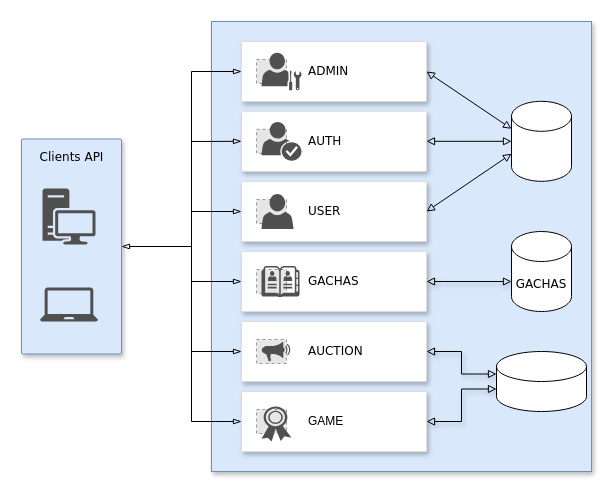
This 615x496 diagram has some shape labels left out. Grey dashed boxes stand in for pictures. The centre of each missing label's shape, as x and y in pixels:
"TRANSACTION" belongs at (x=541, y=381).
"USERS" belongs at (x=541, y=140).
